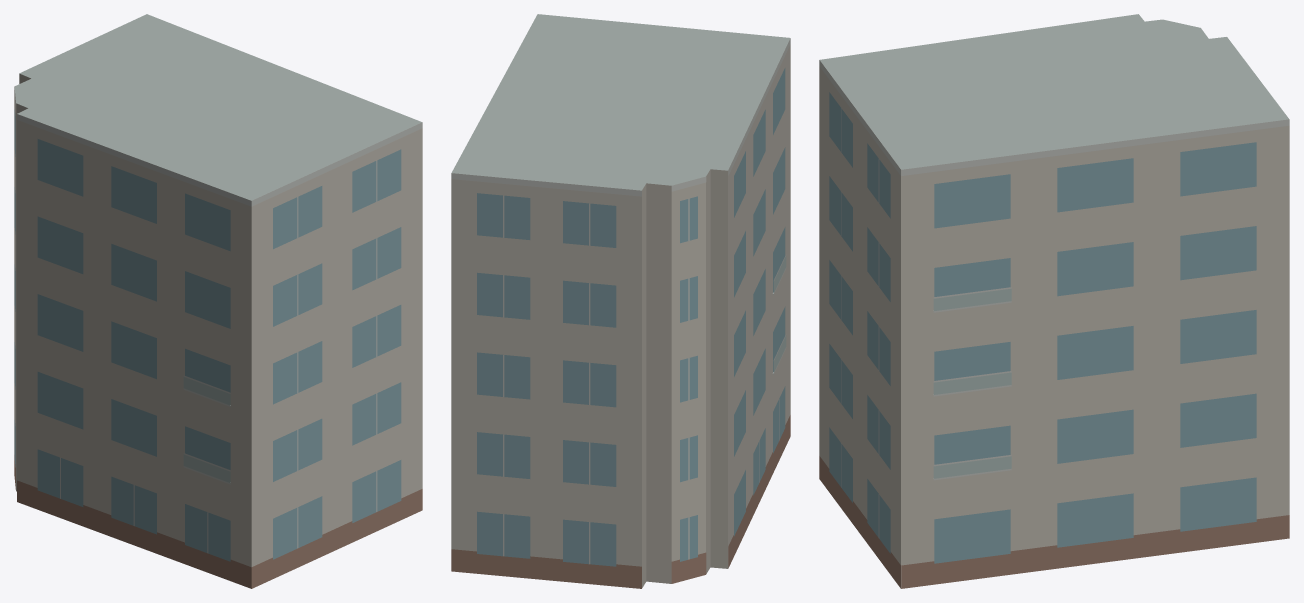
File: survey-upis-32709095.glb
3 renders of one model, left to right at view 1: azimuth 30°, elevation 25°; view 2: azimuth 150°, elevation 25°; view 3: azimuth 270°, elevation 25°, orthographic. The views are drawn at different scales.
Parts seen in each view (by area): view 1: survey-upis-32709095.tmp; view 2: survey-upis-32709095.tmp; view 3: survey-upis-32709095.tmp.
Boxes of the visible parts, x1=… form: survey-upis-32709095.tmp: x1=14, y1=14, x2=422, y2=588; survey-upis-32709095.tmp: x1=451, y1=14, x2=790, y2=588; survey-upis-32709095.tmp: x1=819, y1=14, x2=1289, y2=588.
Bounding box in the file's own units: 12.85 × 16.1 × 16.38.
